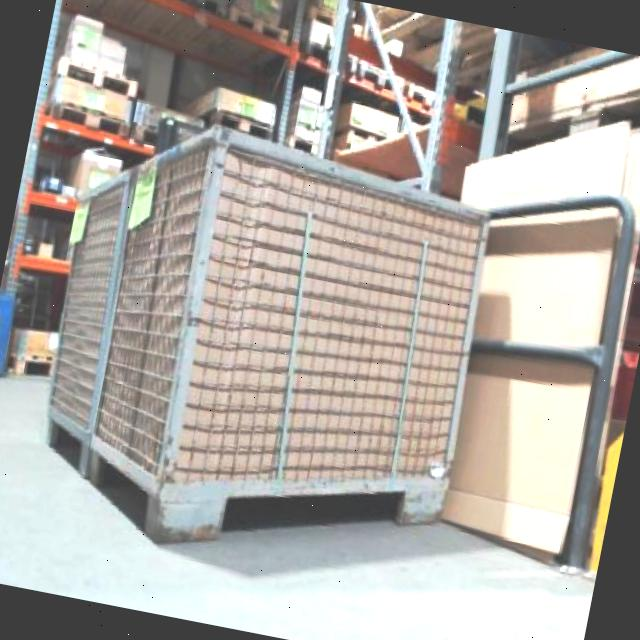ground: (0, 363, 614, 640)
pallet: (16, 98, 512, 595), (394, 90, 640, 576), (0, 104, 163, 397), (575, 254, 640, 589), (580, 407, 629, 588)
